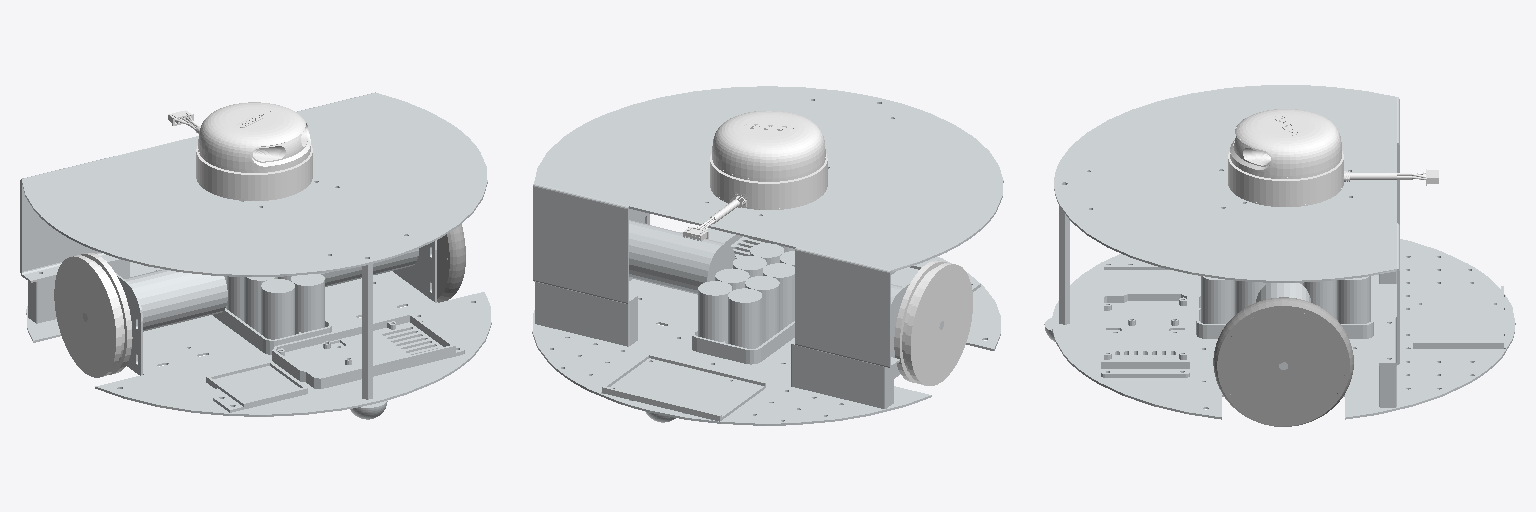
robot.urdf — Wagon_FINAL2.SLDASM:
<?xml version="1.0" encoding="utf-8"?>
<!-- This URDF was automatically created by SolidWorks to URDF Exporter! Originally created by [author] ([email redacted]) 
     Commit Version: 1.6.0-4-g7f85cfe  Build Version: 1.6.7995.38578
     For more information, please see http://wiki.ros.org/sw_urdf_exporter -->
<robot
  name="Wagon_FINAL2.SLDASM">
  <link
    name="base_link">
    <inertial>
      <origin
        xyz="-0.00071232 -0.011132 0.011557"
        rpy="0 0 0" />
      <mass
        value="1.941" />
      <inertia
        ixx="0.0031002"
        ixy="1.8319E-07"
        ixz="-1.261E-07"
        iyy="0.0068642"
        iyz="-0.00014395"
        izz="0.0042262" />
    </inertial>
    <visual>
      <origin
        xyz="0 0 0"
        rpy="0 0 0" />
      <geometry>
        <mesh
          filename="package://Wagon_FINAL2.SLDASM/meshes/base_link.STL" />
      </geometry>
      <material
        name="">
        <color
          rgba="0.89804 0.91765 0.92941 1" />
      </material>
    </visual>
    <collision>
      <origin
        xyz="0 0 0"
        rpy="0 0 0" />
      <geometry>
        <mesh
          filename="package://Wagon_FINAL2.SLDASM/meshes/base_link.STL" />
      </geometry>
    </collision>
  </link>
  <link
    name="LeftWheel">
    <inertial>
      <origin
        xyz="0.0595277257682346 0.0660060262979564 0.0944826896986568"
        rpy="0 0 0" />
      <mass
        value="0.0749982833810974" />
      <inertia
        ixx="3.85620601121594E-05"
        ixy="-3.2351260264921E-09"
        ixz="8.85449535517429E-12"
        iyy="7.53748500718055E-05"
        iyz="3.68149875309628E-09"
        izz="3.85619298894742E-05" />
    </inertial>
    <visual>
      <origin
        xyz="0 0 0"
        rpy="0 0 0" />
      <geometry>
        <mesh
          filename="package://Wagon_FINAL2.SLDASM/meshes/LeftWheel.STL" />
      </geometry>
      <material
        name="">
        <color
          rgba="0.752941176470588 0.752941176470588 0.752941176470588 1" />
      </material>
    </visual>
    <collision>
      <origin
        xyz="0 0 0"
        rpy="0 0 0" />
      <geometry>
        <mesh
          filename="package://Wagon_FINAL2.SLDASM/meshes/LeftWheel.STL" />
      </geometry>
    </collision>
  </link>
  <joint
    name="LeftWheel"
    type="continuous">
    <origin
      xyz="0.18852 -0.0055491 0.097513"
      rpy="3.1416 0.51563 -1.5708" />
    <parent
      link="base_link" />
    <child
      link="LeftWheel" />
    <axis
      xyz="0 0 0" />
  </joint>
  <link
    name="RightWheel">
    <inertial>
      <origin
        xyz="0.0400132489874368 0.0059999998236762 0.0399666041415767"
        rpy="0 0 0" />
      <mass
        value="0.0570828645750587" />
      <inertia
        ixx="2.26881111326565E-05"
        ixy="-3.23512602648937E-09"
        ixz="8.85449535453901E-12"
        iyy="4.39441762330487E-05"
        iyz="3.68149875309472E-09"
        izz="2.26879809099714E-05" />
    </inertial>
    <visual>
      <origin
        xyz="0 0 0"
        rpy="0 0 0" />
      <geometry>
        <mesh
          filename="package://Wagon_FINAL2.SLDASM/meshes/RightWheel.STL" />
      </geometry>
      <material
        name="">
        <color
          rgba="1 1 1 1" />
      </material>
    </visual>
    <collision>
      <origin
        xyz="0 0 0"
        rpy="0 0 0" />
      <geometry>
        <mesh
          filename="package://Wagon_FINAL2.SLDASM/meshes/RightWheel.STL" />
      </geometry>
    </collision>
  </link>
  <joint
    name="RightWheel"
    type="continuous">
    <origin
      xyz="-0.11749 0.03225 0.022683"
      rpy="3.1416 -0.078139 -1.5708" />
    <parent
      link="base_link" />
    <child
      link="RightWheel" />
    <axis
      xyz="0 0 0" />
  </joint>
  <link
    name="LiDAR">
    <inertial>
      <origin
        xyz="0 0 0"
        rpy="0 0 0" />
      <mass
        value="0" />
      <inertia
        ixx="0"
        ixy="0"
        ixz="0"
        iyy="0"
        iyz="0"
        izz="0" />
    </inertial>
    <visual>
      <origin
        xyz="0 0 0"
        rpy="0 0 0" />
      <geometry>
        <mesh
          filename="package://Wagon_FINAL2.SLDASM/meshes/LiDAR.STL" />
      </geometry>
      <material
        name="">
        <color
          rgba="1 1 1 1" />
      </material>
    </visual>
    <collision>
      <origin
        xyz="0 0 0"
        rpy="0 0 0" />
      <geometry>
        <mesh
          filename="package://Wagon_FINAL2.SLDASM/meshes/LiDAR.STL" />
      </geometry>
    </collision>
  </link>
  <joint
    name="LiDAR"
    type="fixed">
    <origin
      xyz="-0.077875 -0.0032017 0.047319"
      rpy="1.5708 0 1.5708" />
    <parent
      link="base_link" />
    <child
      link="LiDAR" />
    <axis
      xyz="0 0 0" />
  </joint>
</robot>

--- Facts derived from the render (not from the file) ---
3 views of the same robot in one strip: view 1: azimuth 30°, elevation 25°; view 2: azimuth 150°, elevation 25°; view 3: azimuth 270°, elevation 25° (orthographic).
Robot: Wagon_FINAL2.SLDASM — 4 links, 3 joints (2 continuous, 1 fixed); root link base_link; default pose: every joint at zero.
Links seen in each view (by area): view 1: base_link, LiDAR, RightWheel, LeftWheel; view 2: base_link, LiDAR, RightWheel; view 3: base_link, LeftWheel, LiDAR.
Link boxes in pixels (x1,y1,x2,y2): base_link: [20, 92, 491, 419]; LiDAR: [168, 102, 312, 200]; RightWheel: [54, 253, 132, 377]; LeftWheel: [437, 224, 465, 302]; base_link: [532, 86, 1003, 425]; LiDAR: [683, 111, 827, 241]; RightWheel: [894, 260, 972, 385]; base_link: [1044, 85, 1515, 419]; LeftWheel: [1213, 297, 1353, 426]; LiDAR: [1228, 109, 1438, 206].
Size in the robot's own frame: 0.3 by 0.3047 by 0.1558 metres.
4 mesh visuals loaded from 4 distinct referenced files (4 binary STL).